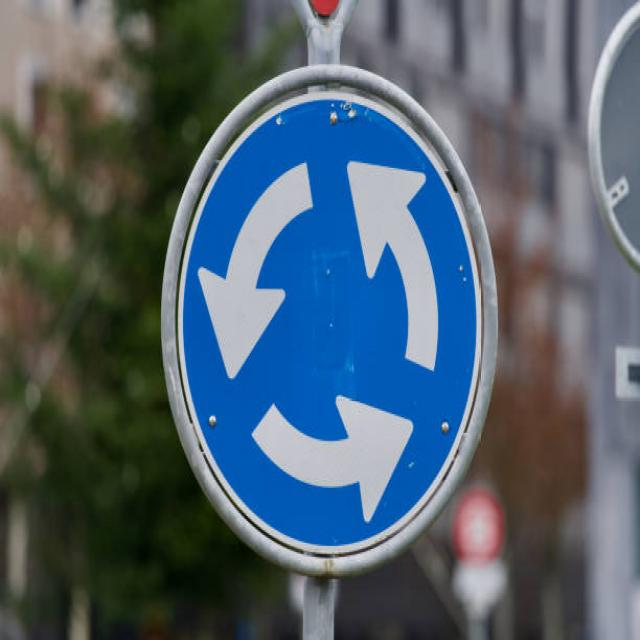round_about: (174, 83, 493, 559)
